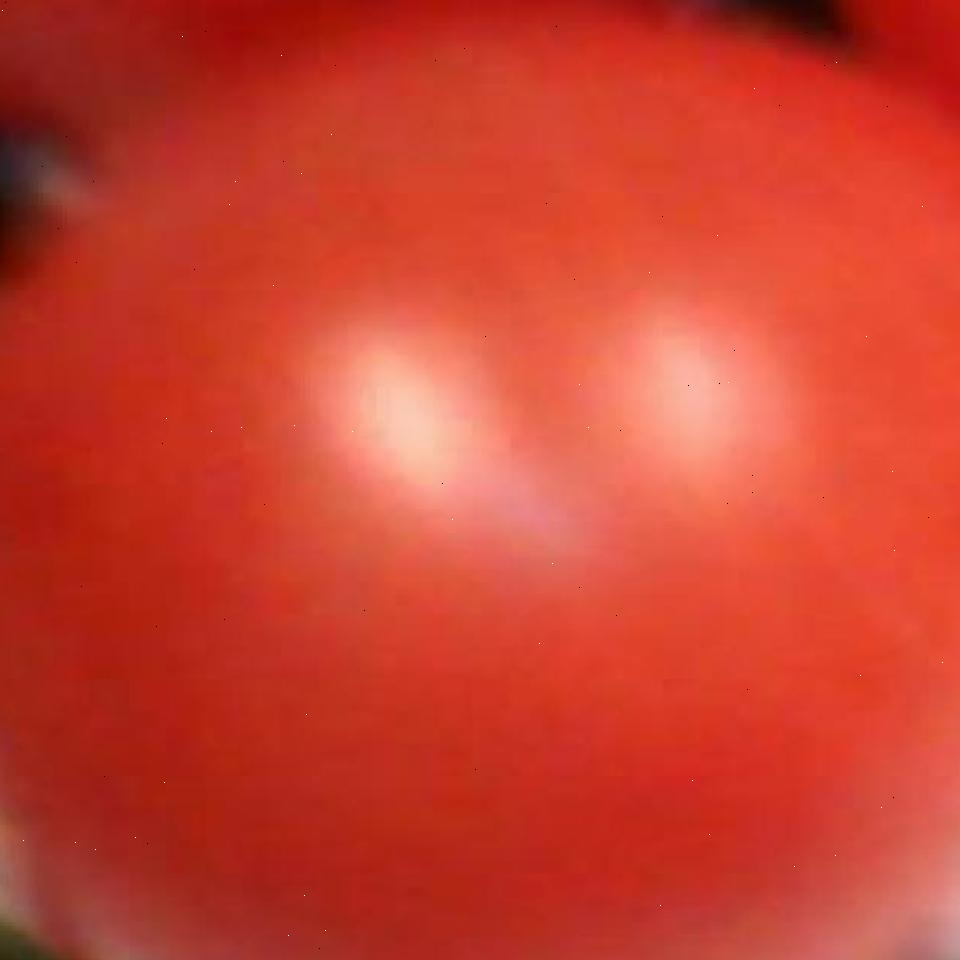Healthy: (0, 16, 960, 960)
